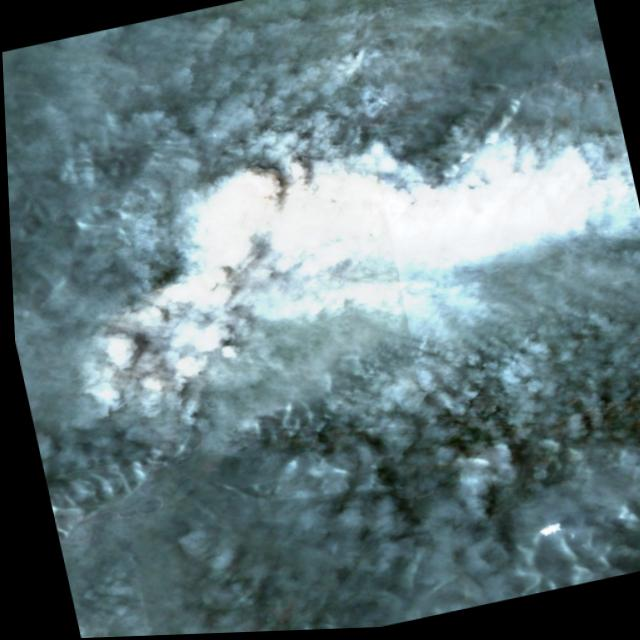fire: (46, 153, 331, 418)
